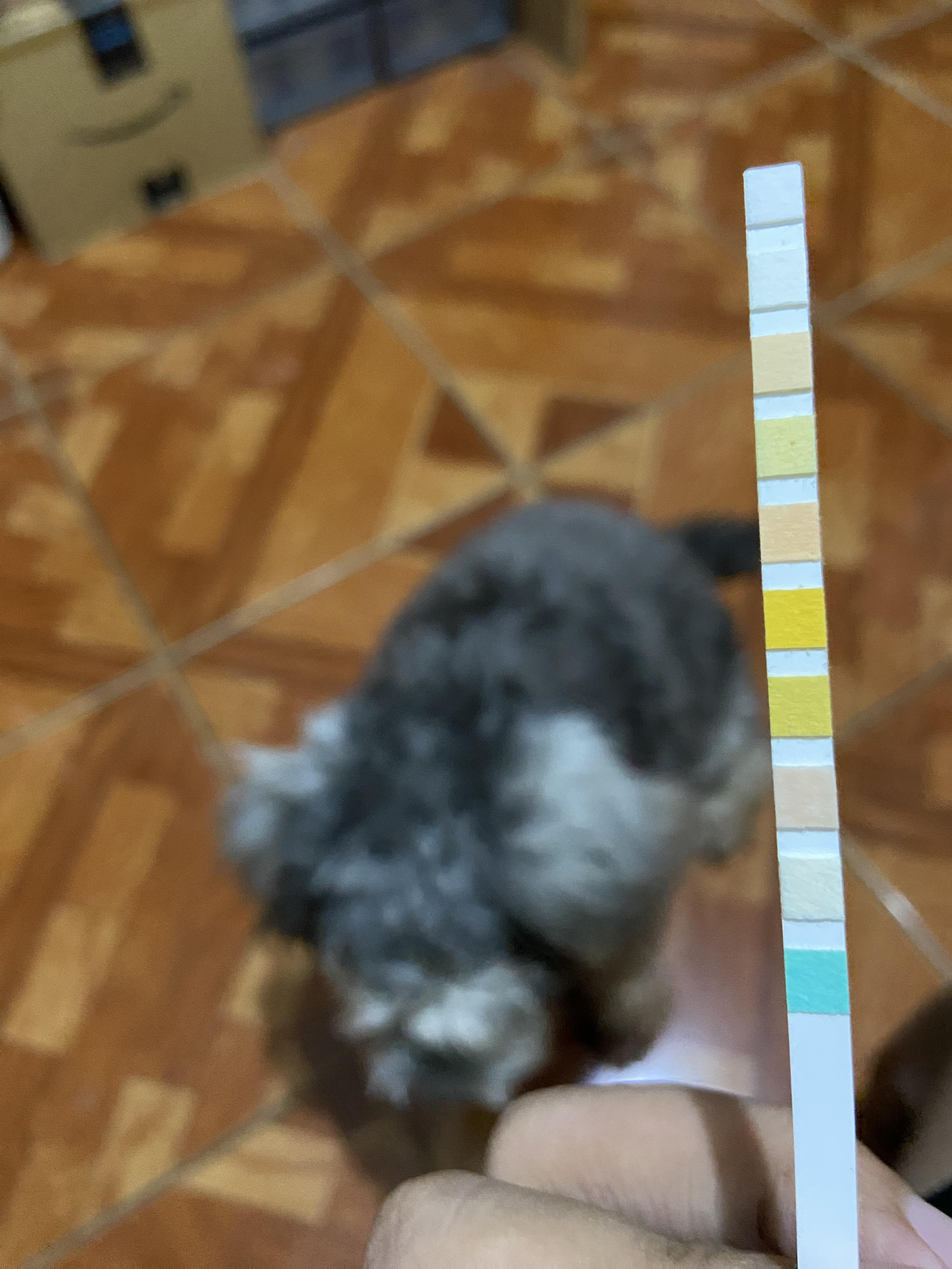Bilirubin: (782, 857, 838, 920)
Blood: (766, 590, 824, 648)
Glucose: (787, 950, 847, 1010)
Ketone: (778, 767, 835, 828)
Leukocytes: (748, 170, 801, 220)
Nitrite: (753, 254, 806, 305)
Protein: (757, 419, 815, 476)
SpGravity: (772, 678, 829, 737)
Urobilinogen: (754, 339, 811, 389)
pH: (762, 507, 819, 561)
strip: (743, 161, 860, 1268)
